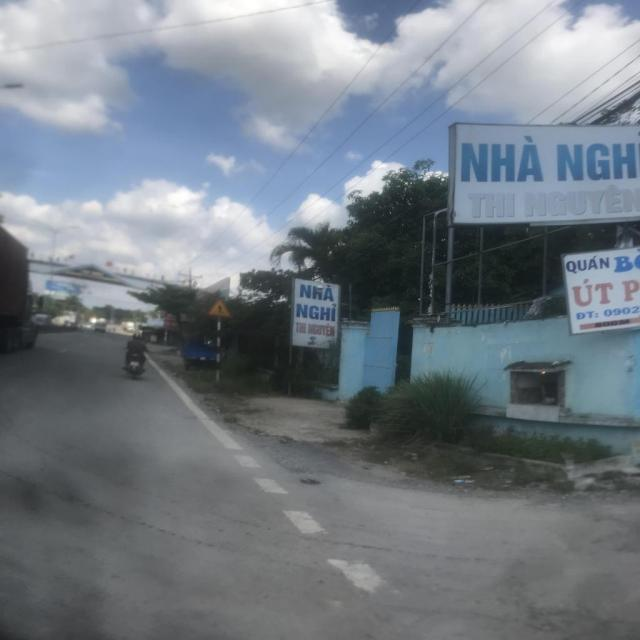chu_y_nguoi_di_bo_cat_ngang: (207, 298, 233, 318)
